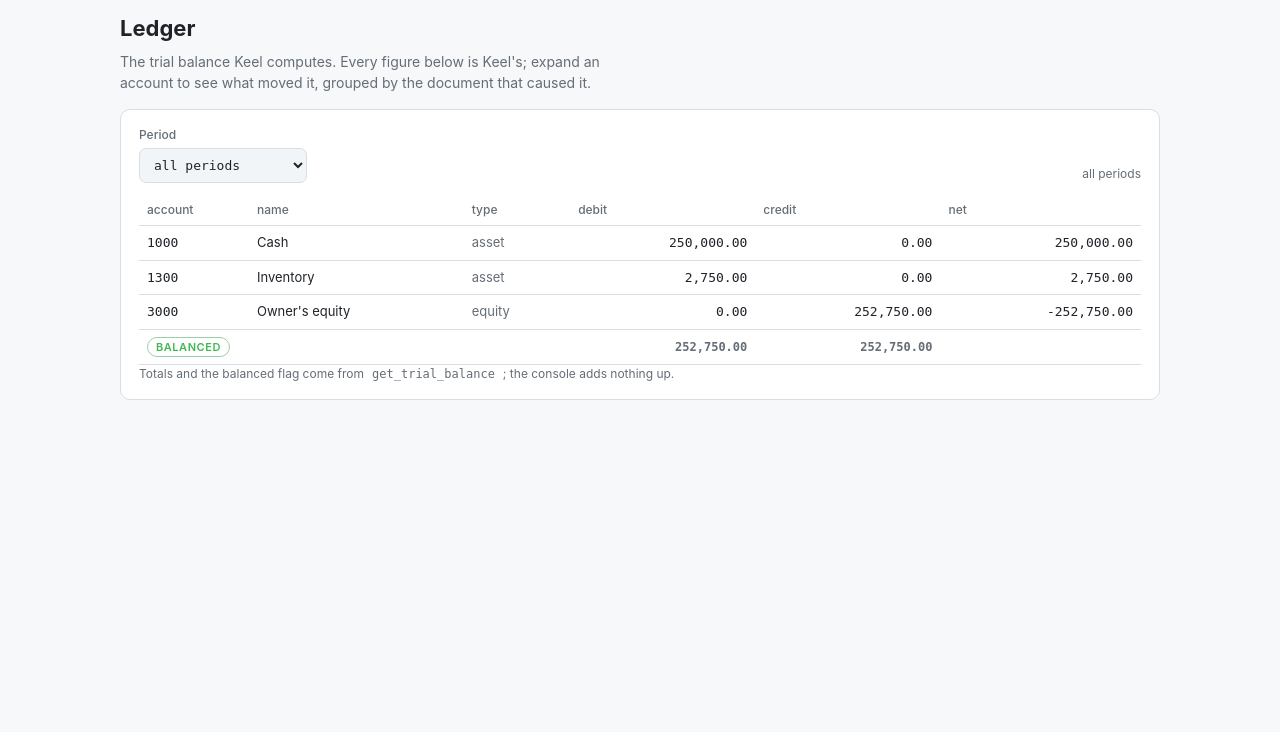
Test: Ledger › expands an account into its movements by source and its entries
Click the text "Inventory" at [356, 277], box 249,260 -> 464,294
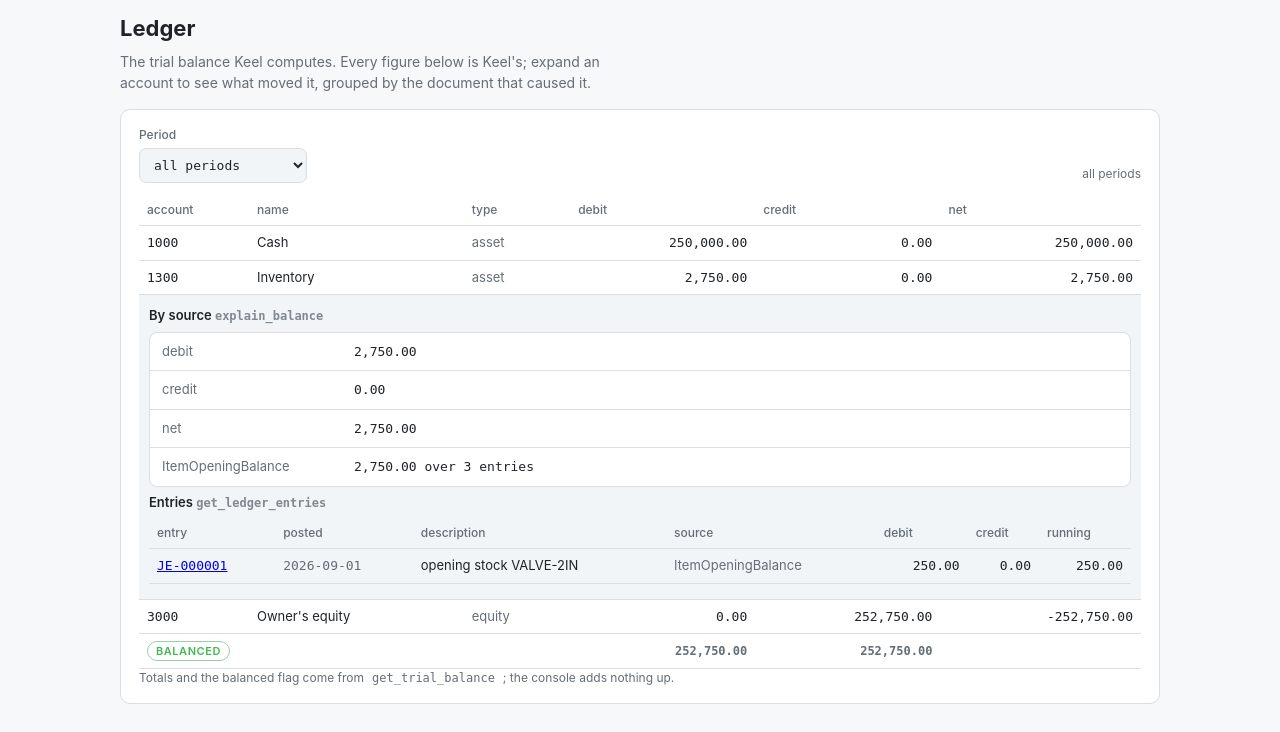
Now the text "ItemOpeningBalance" is shown 2 times, box 162,458 -> 290,474; 666,548 -> 876,583
Now the text "2,750.00 over 3 entries" is shown, box 354,459 -> 534,474
Now the link "JE-000001" is shown, box 157,558 -> 228,573
